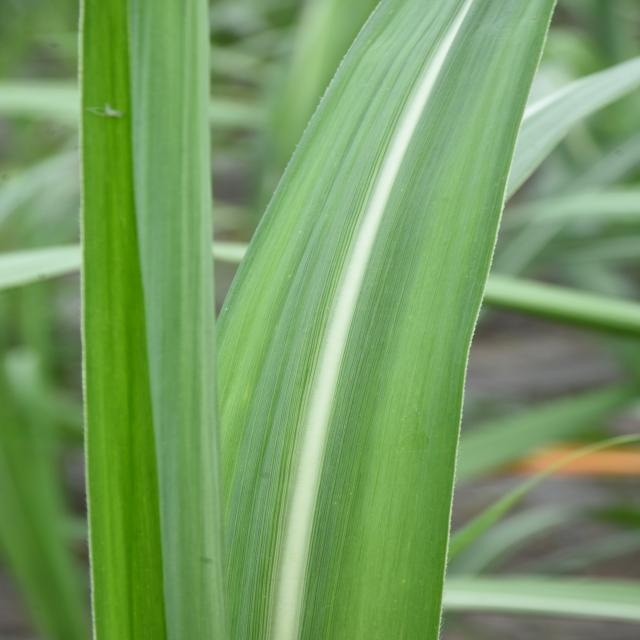Sugarcane: (213, 0, 557, 640)
